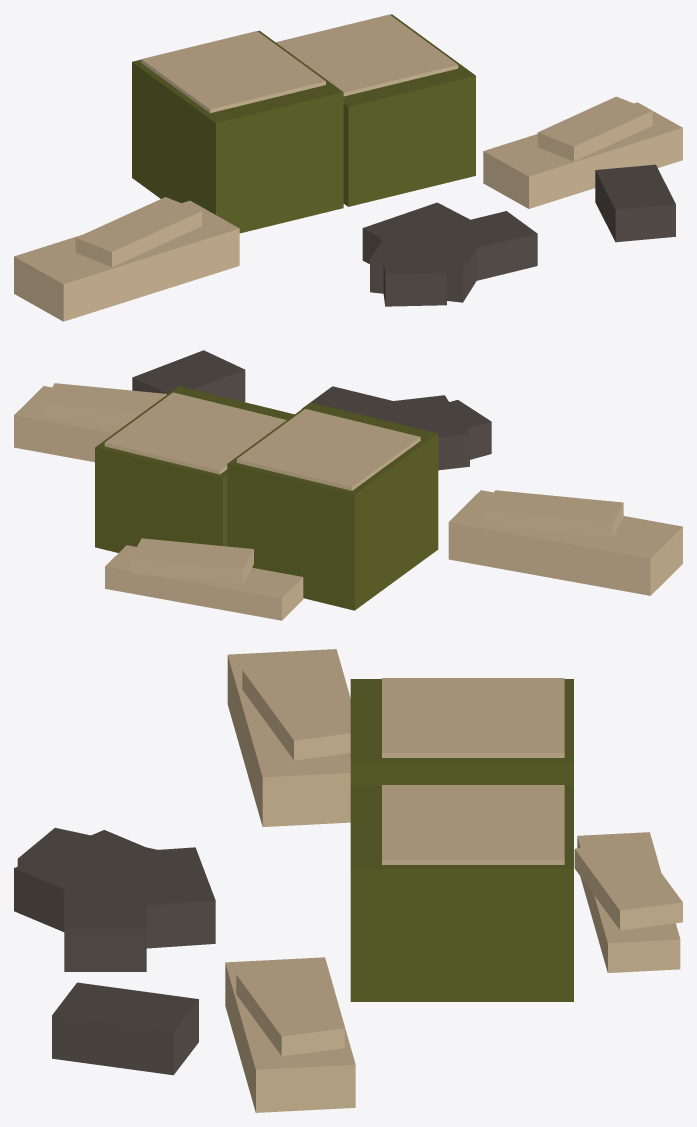
File: SM_HescoCorto2_v1_Geotextil_e2_MuyDanado_LOD1.fbx
The picture shows the model from 3 angles, top to bottom: view 1: azimuth 30°, elevation 25°; view 2: azimuth 150°, elevation 25°; view 3: azimuth 270°, elevation 25°; orthographic projection. The views are drawn at different scales.
Parts seen in each view (by area): view 1: SM_hesco_piezas_v66_LOD1; view 2: SM_hesco_piezas_v66_LOD1; view 3: SM_hesco_piezas_v66_LOD1.
Boxes of the visible parts, bbox=[...] form: SM_hesco_piezas_v66_LOD1: bbox=[14, 14, 682, 321]; SM_hesco_piezas_v66_LOD1: bbox=[14, 350, 682, 620]; SM_hesco_piezas_v66_LOD1: bbox=[14, 649, 682, 1112].
Bounding box in the file's own units: 5.36 × 0.9603 × 3.66.
